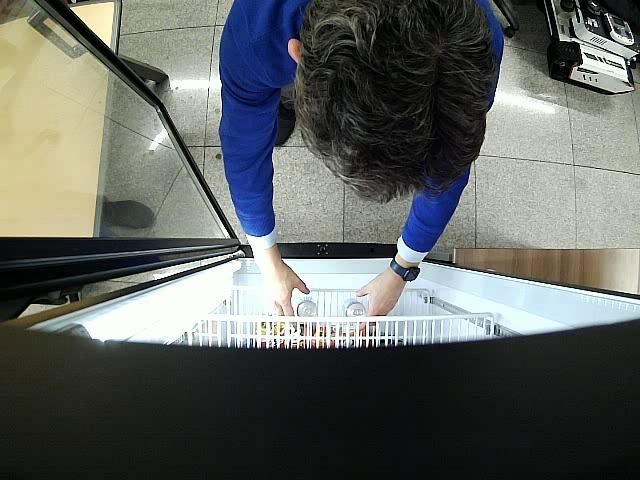00_hand: (254, 255, 311, 325), (357, 276, 406, 331)
